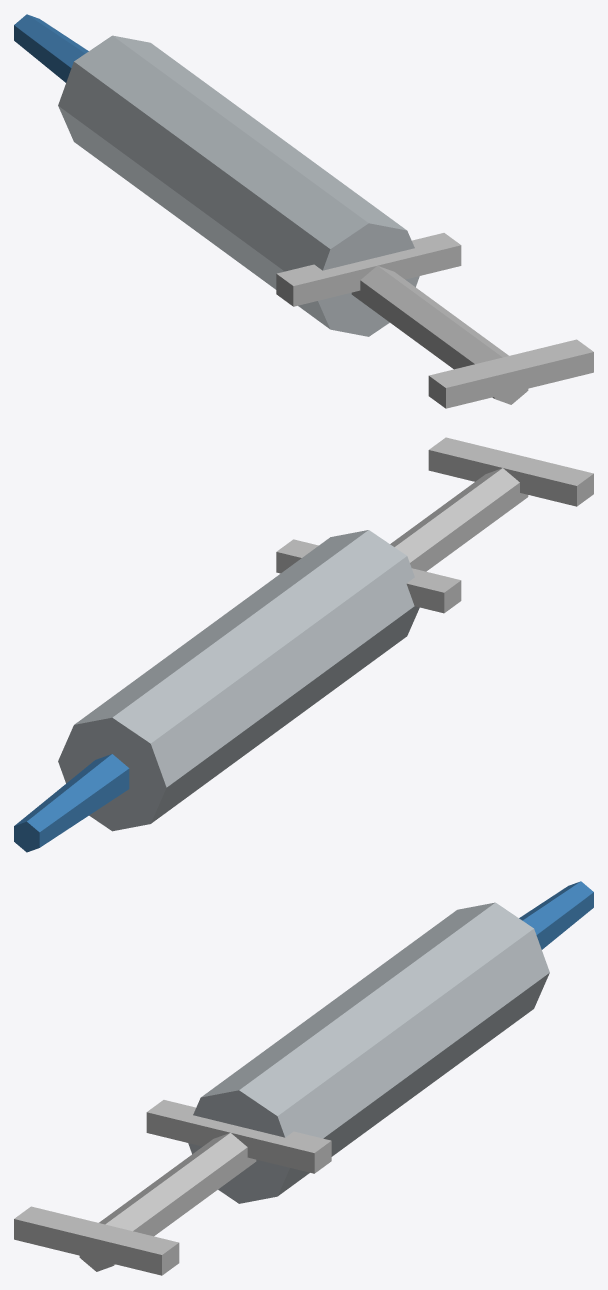
Rendered from syringe.glb.
3 views of the same model, one above another, from view 1: azimuth 30°, elevation 25°; view 2: azimuth 150°, elevation 25°; view 3: azimuth 330°, elevation 25° (orthographic).
Visible parts, largest first — view 1: syringe; view 2: syringe; view 3: syringe.
Part boxes in pixels (x1,y1,x2,y2): syringe: (14,14,593,408); syringe: (14,437,593,852); syringe: (14,881,593,1275).
Bounding box in the file's own units: 0.034 × 0.022 × 0.173.
